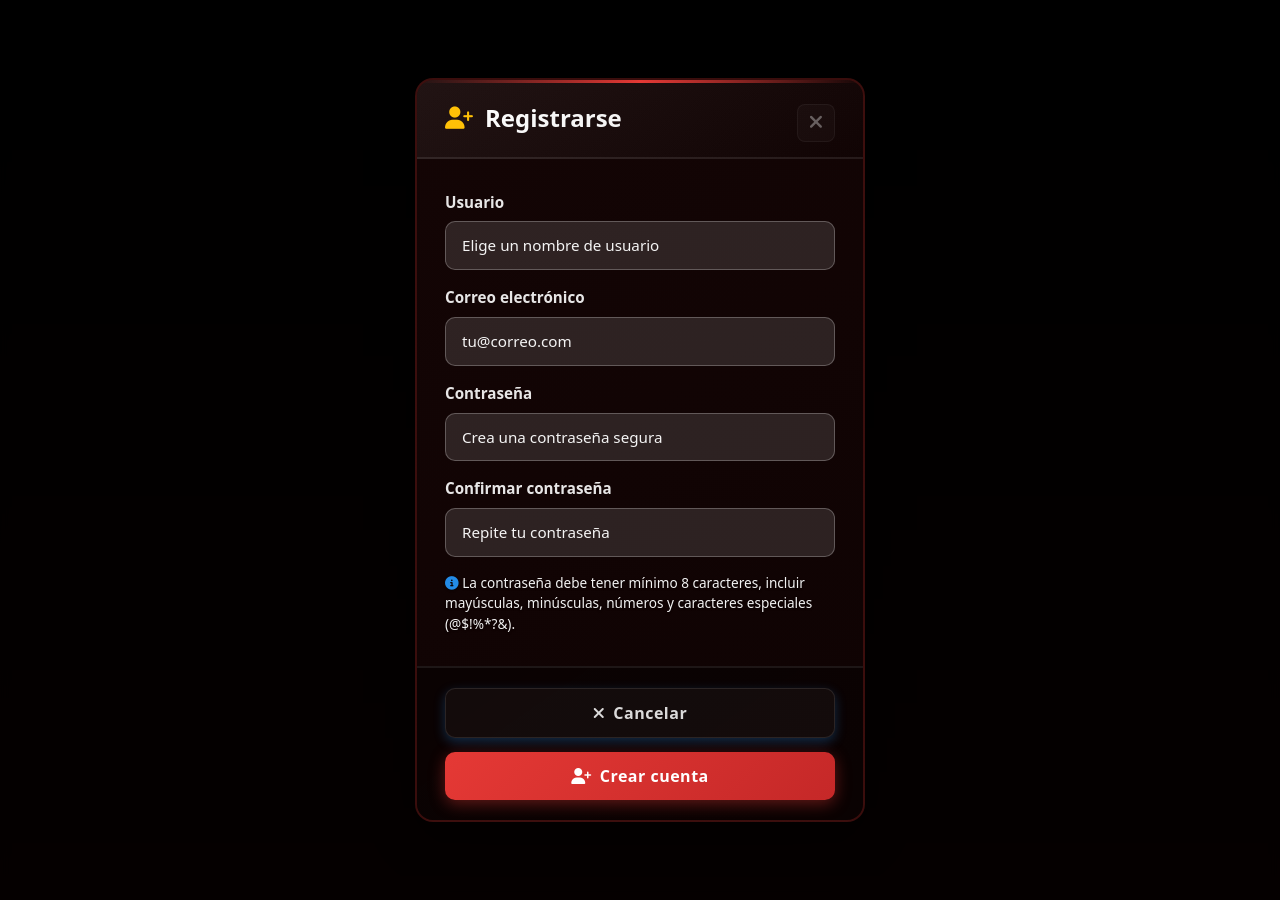
it: RegisterModal › muestra indicador de fortaleza de contraseña
The width and height of the screenshot is (1280, 900).
Type "Test123@" into the password field with placeholder "Crea una contraseña segura" at (640,437), box top-left (445, 413), bottom-right (835, 461)
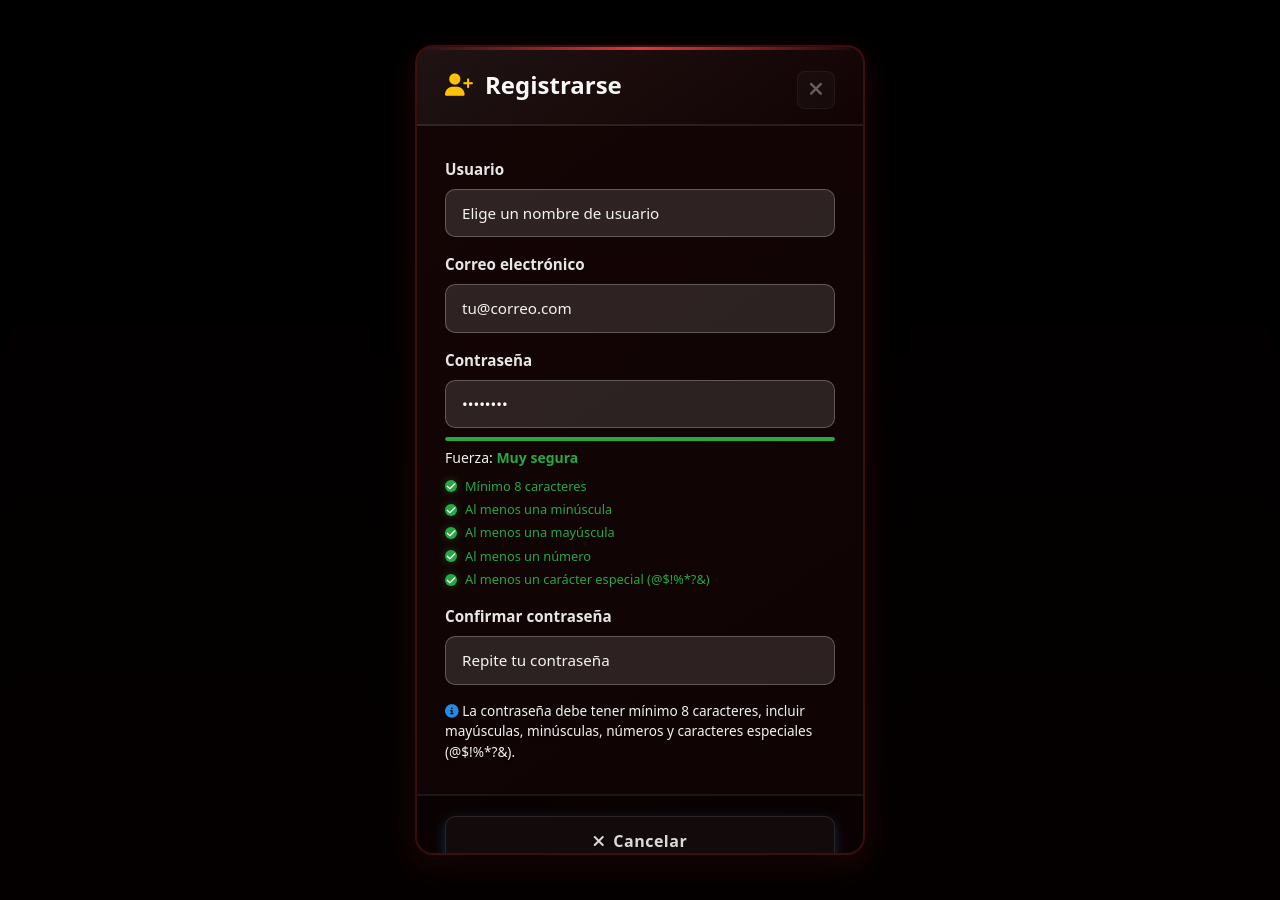
Now the text "Fuerza:" is shown, box top-left (445, 448), bottom-right (496, 466)
